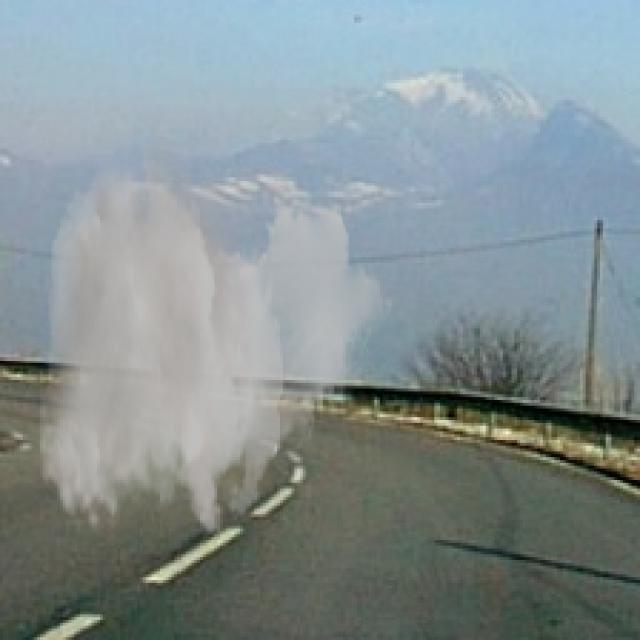Smoke: (37, 114, 394, 537)
